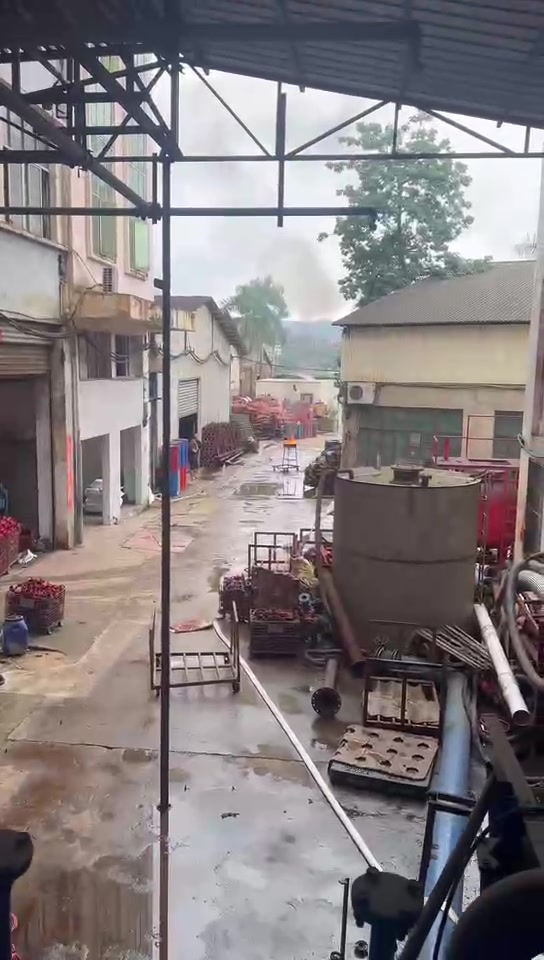fire: (284, 432, 295, 443)
